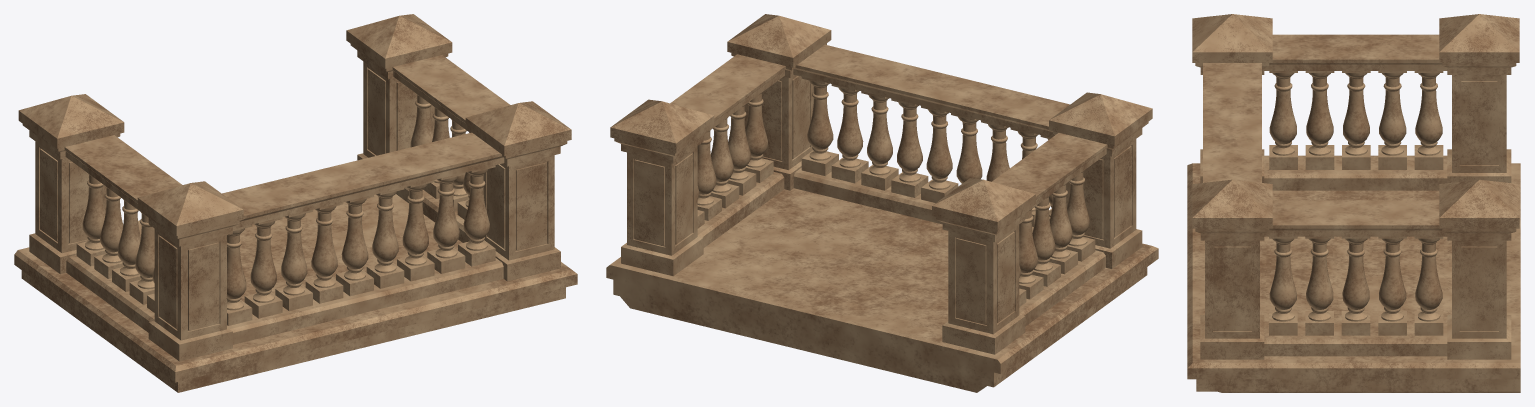
Rendered from Balkon.glb.
The picture shows the model from 3 angles, left to right: view 1: azimuth 30°, elevation 25°; view 2: azimuth 150°, elevation 25°; view 3: azimuth 270°, elevation 25°; orthographic projection. The views are drawn at different scales.
Parts seen in each view (by area): view 1: Posts 001, Rails 001, Base 001, Baluster 001, Baluster 002, Baluster 003; view 2: Base 001, Posts 001, Rails 001, Baluster 001, Baluster 003, Baluster 002; view 3: Posts 001, Rails 001, Base 001, Baluster 003, Baluster 002.
Boxes of the visible parts, x1,y1,x2,y2 form: Posts 001: [18, 14, 571, 361]; Rails 001: [64, 55, 510, 344]; Base 001: [14, 194, 577, 392]; Baluster 001: [227, 165, 495, 325]; Baluster 002: [76, 172, 154, 312]; Baluster 003: [410, 93, 469, 219]; Base 001: [606, 188, 1158, 392]; Posts 001: [610, 14, 1152, 354]; Rails 001: [670, 44, 1107, 326]; Baluster 001: [801, 77, 1052, 226]; Baluster 003: [697, 92, 773, 228]; Baluster 002: [1019, 169, 1095, 306]; Posts 001: [1192, 14, 1519, 359]; Rails 001: [1203, 34, 1447, 356]; Base 001: [1187, 163, 1520, 392]; Baluster 003: [1269, 236, 1443, 335]; Baluster 002: [1269, 71, 1443, 169].
Size of the model in its own units: 3.39 by 1.61 by 2.35.
4 materials, 4 textured.
